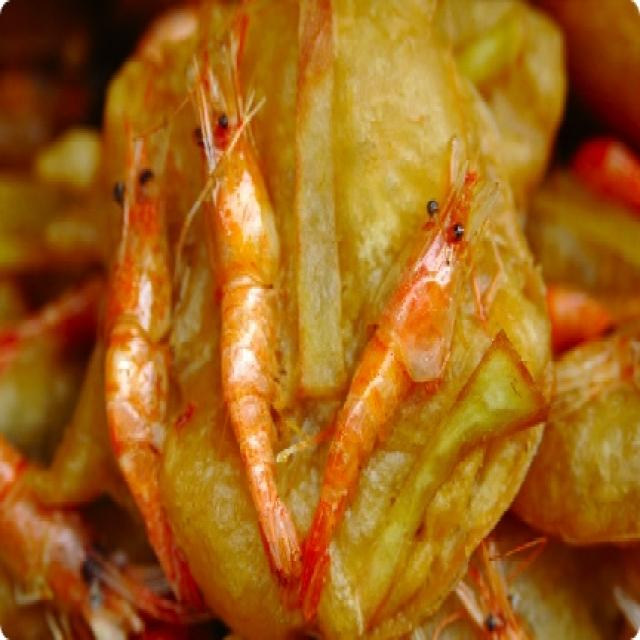炸货点心: (19, 16, 620, 614)
熟制海鲜: (19, 16, 620, 614)
